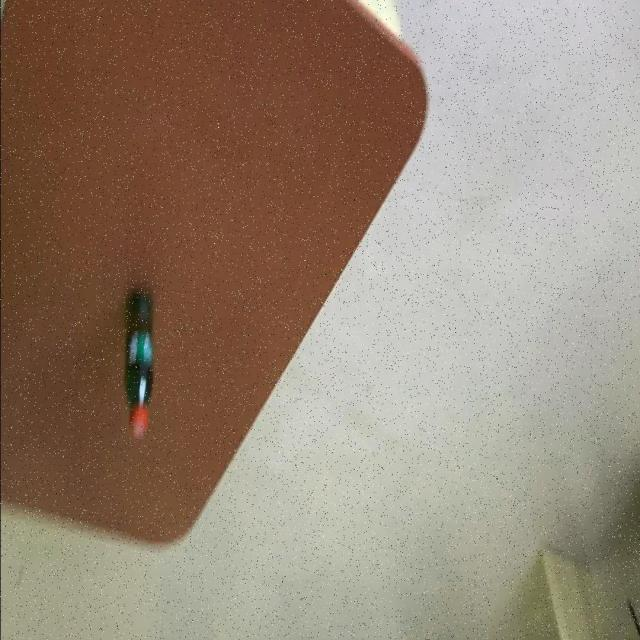Guarana: (0, 0, 430, 549), (124, 287, 156, 438)
